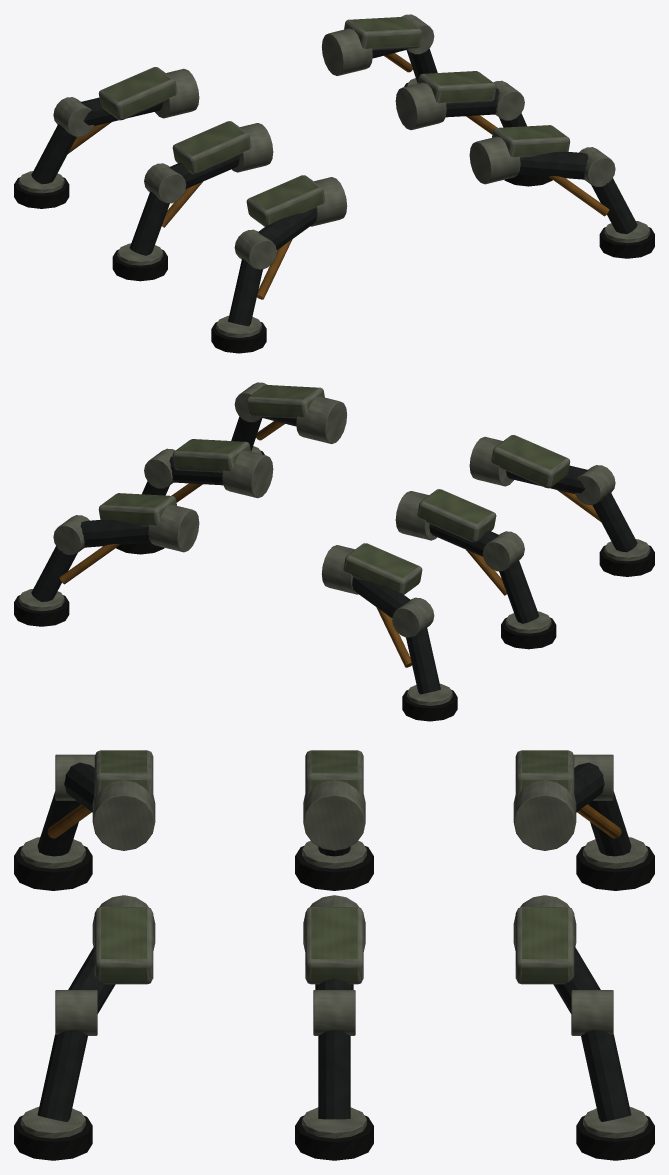
File: ranger-treads.fbx
The picture shows the model from 3 angles, top to bottom: view 1: azimuth 30°, elevation 25°; view 2: azimuth 150°, elevation 25°; view 3: azimuth 270°, elevation 25°; orthographic projection. The views are drawn at different scales.
Visible parts, largest first — view 1: ranger-treads_Edge, ranger-treads_Armor, ranger-treads_Steel, ranger-treads_Rubber, ranger-treads_Brass; view 2: ranger-treads_Edge, ranger-treads_Armor, ranger-treads_Steel, ranger-treads_Rubber, ranger-treads_Brass; view 3: ranger-treads_Edge, ranger-treads_Armor, ranger-treads_Steel, ranger-treads_Rubber, ranger-treads_Brass.
Boxes of the visible parts, box(x1,y1,x2,y2) form: ranger-treads_Edge: box(18, 14, 650, 337); ranger-treads_Armor: box(98, 17, 570, 226); ranger-treads_Steel: box(31, 48, 637, 326); ranger-treads_Rubber: box(14, 82, 654, 353); ranger-treads_Brass: box(67, 53, 609, 299); ranger-treads_Edge: box(18, 382, 650, 705); ranger-treads_Armor: box(98, 385, 570, 594); ranger-treads_Steel: box(31, 416, 637, 694); ranger-treads_Rubber: box(14, 450, 654, 721); ranger-treads_Brass: box(59, 421, 601, 667); ranger-treads_Edge: box(20, 754, 648, 1138); ranger-treads_Armor: box(94, 750, 574, 984); ranger-treads_Steel: box(37, 762, 631, 1121); ranger-treads_Rubber: box(14, 845, 654, 1160); ranger-treads_Brass: box(47, 804, 621, 838).
Size of the model in its own units: 528 by 138 by 472.
Materials: 5 (5 with a texture image).
